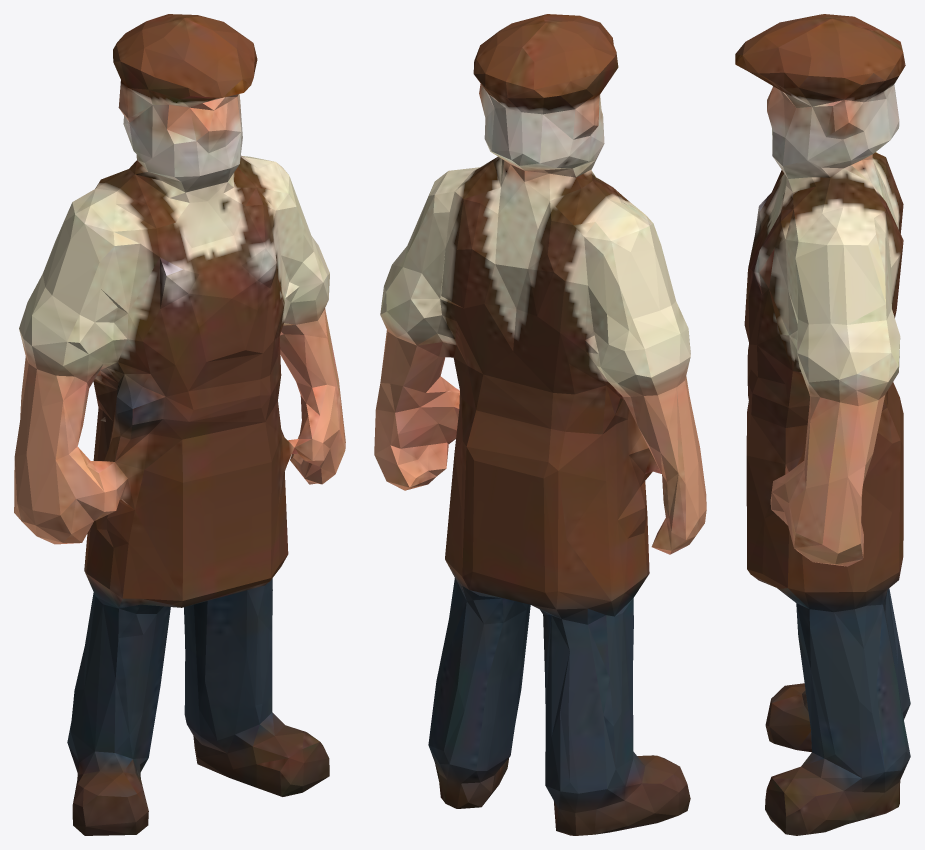
File: habitant-loin.glb
The picture shows the model from 3 angles, left to right: view 1: azimuth 30°, elevation 25°; view 2: azimuth 150°, elevation 25°; view 3: azimuth 270°, elevation 25°; orthographic projection.
Parts seen in each view (by area): view 1: habitant; view 2: habitant; view 3: habitant.
Part boxes in pixels (<box>): habitant: <box>14,14,345,835</box>; habitant: <box>374,14,706,835</box>; habitant: <box>735,14,910,835</box>.
Bounding box in the file's own units: 0.435 × 1.01 × 0.2105.
1 material, 1 textured.
